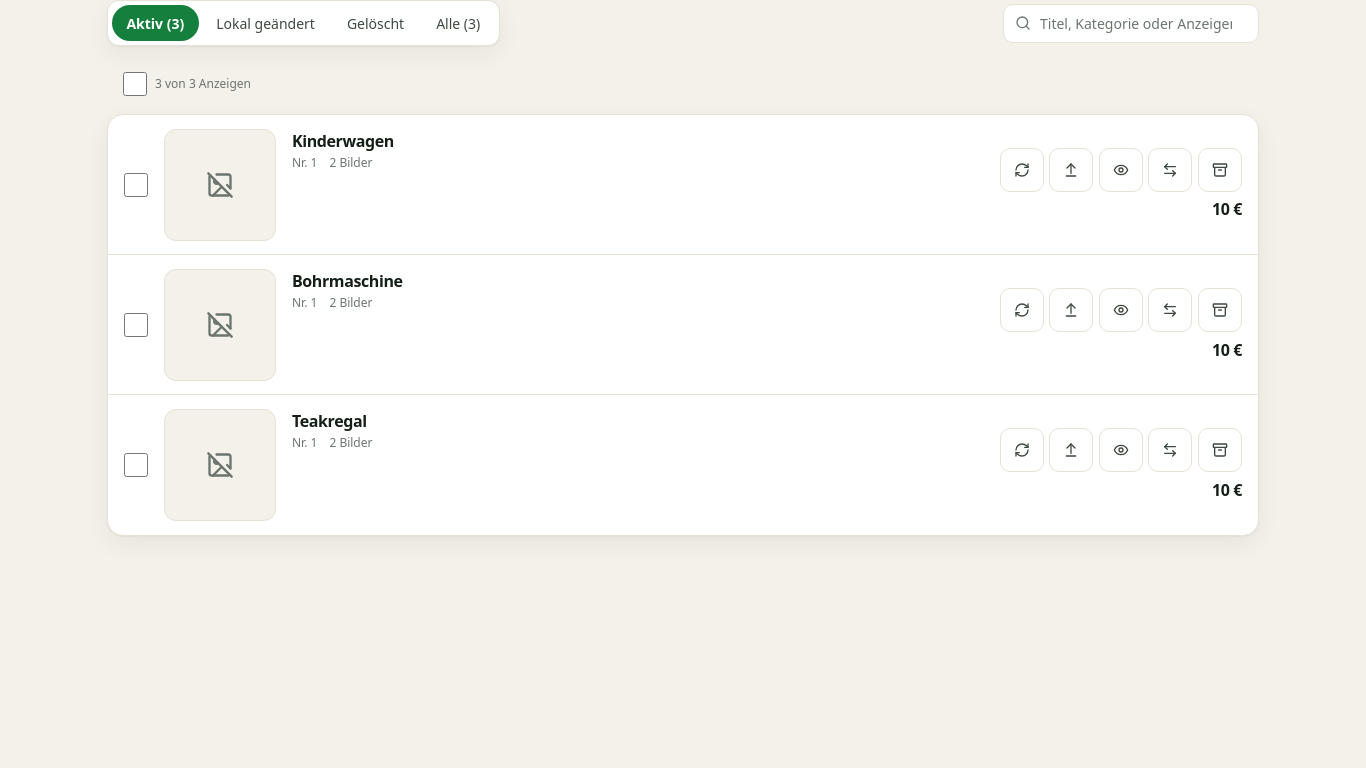
Test: Löschen › sagt im Dialog, dass die Plattform unberührt bleibt
expect the text "Kinderwagen" is shown: met, box [292,130,394,152]
Click the checkbox named "„Kinderwagen\" auswählen" at (136, 185), box [124,173,148,197]
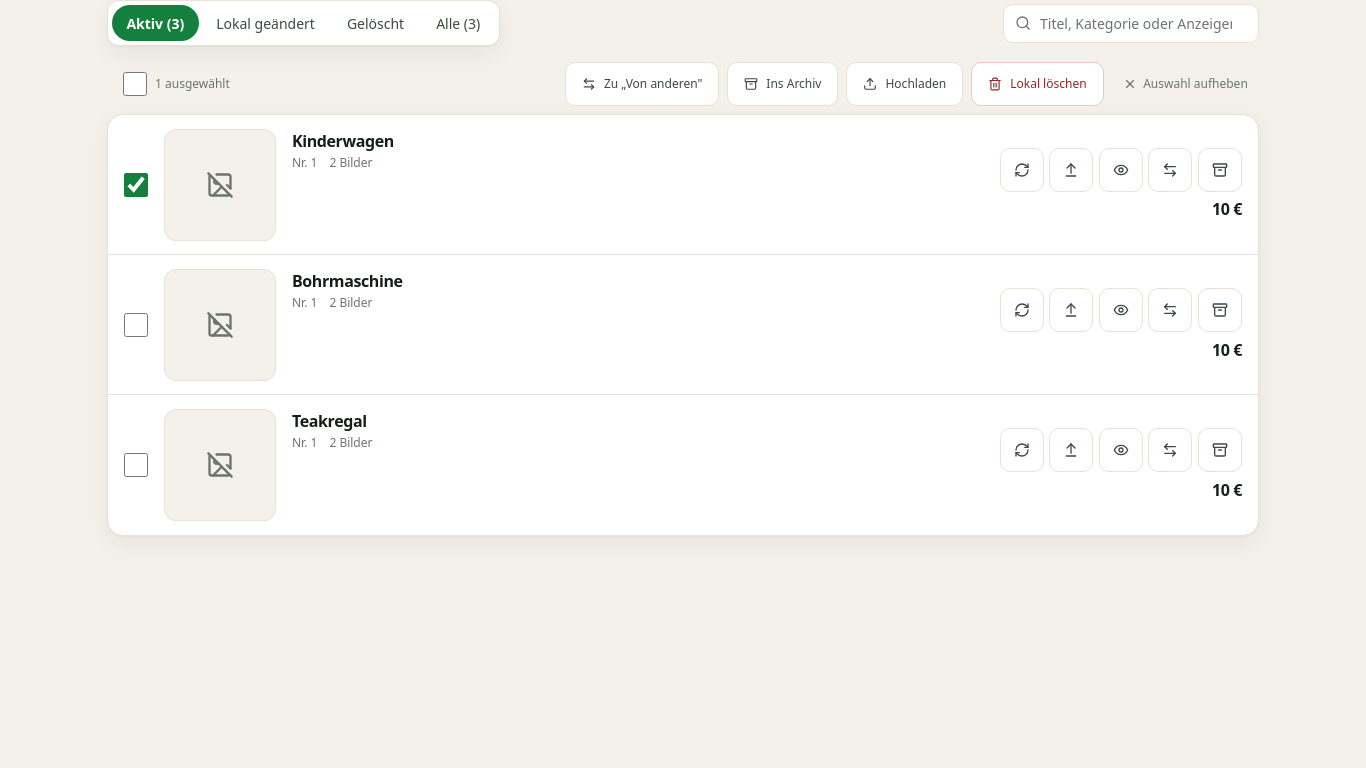
Click the button "Lokal löschen" at (1037, 84), box [971,62,1104,106]
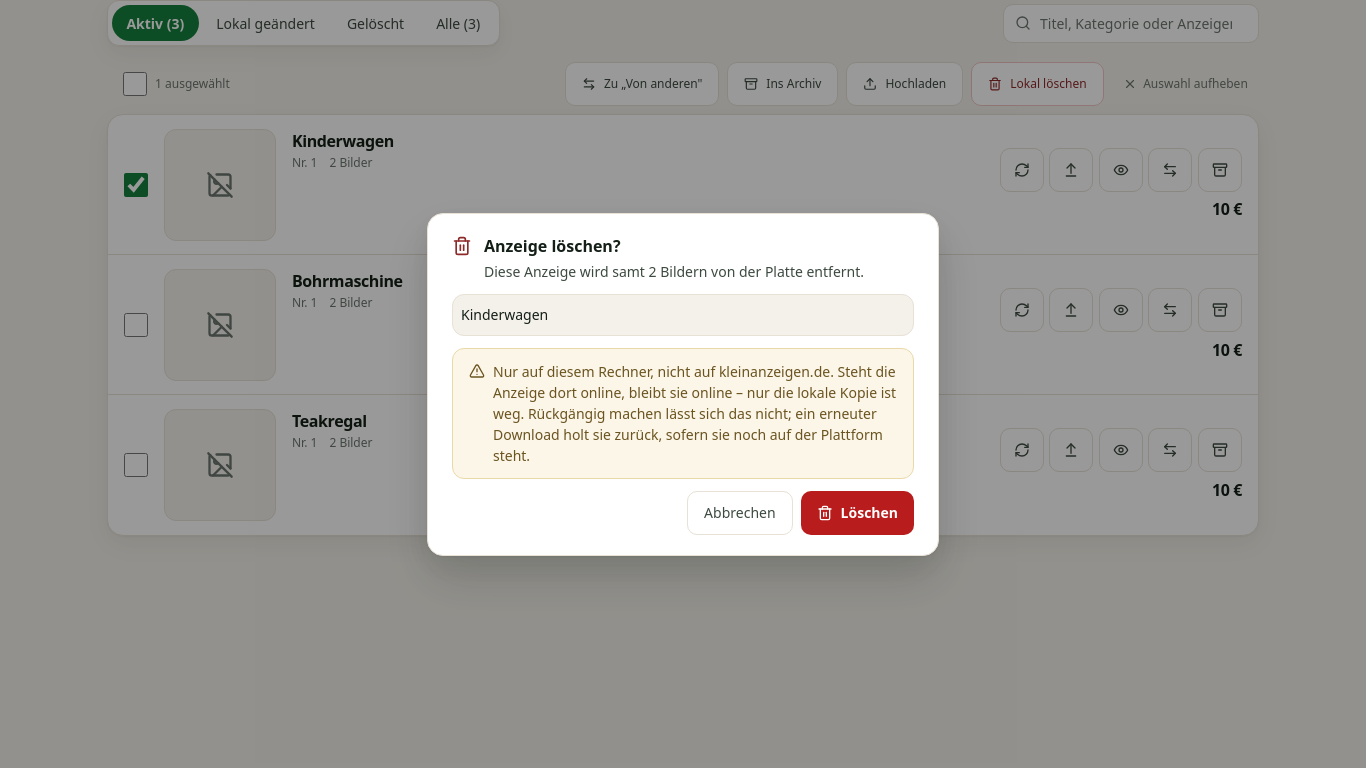
expect the dialog shows "Nur auf diesem Rechner, nicht auf kleinanzeigen.de": met, box [493,362,834,380]
expect the dialog shows "Kinderwagen": met, box [461,304,548,324]
